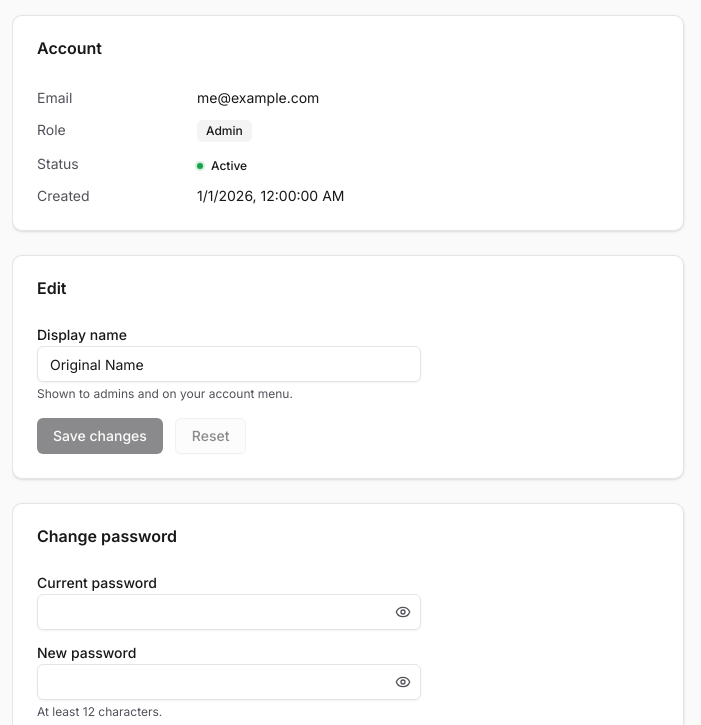
Test: ProfileEditor › keeps the change-password button disabled until all rules are met
Type "old-password" into the password field labelled "Current password" at (229,612), box top-left (37, 594), bottom-right (421, 630)
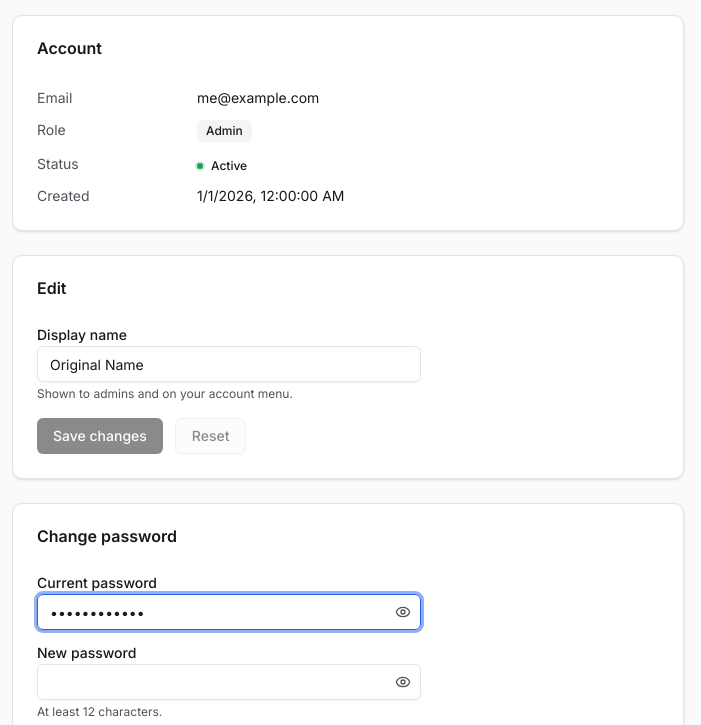
Type "short" into the password field labelled "New password" at (229,682), box top-left (37, 664), bottom-right (421, 700)
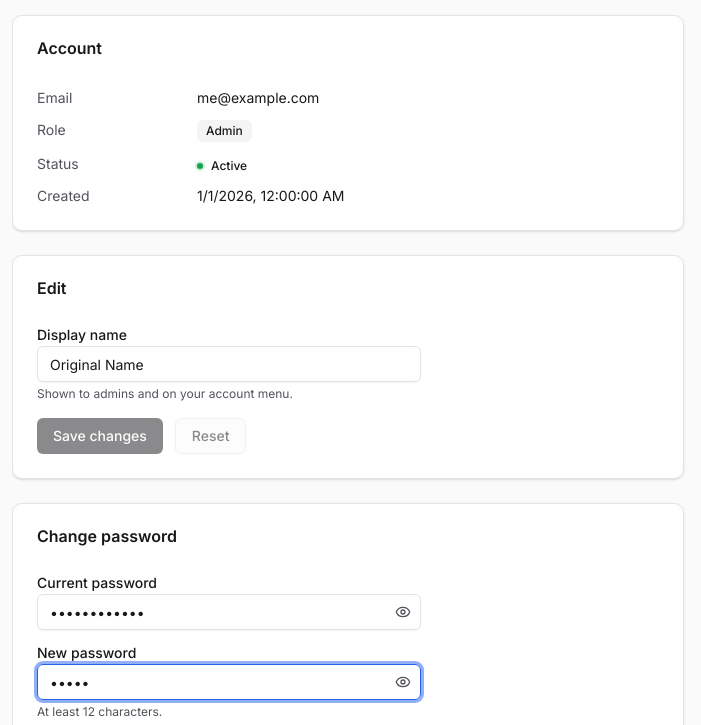
Type "a-good-password" into the password field labelled "New password" at (229,682), box top-left (37, 664), bottom-right (421, 700)
(page scrolled)
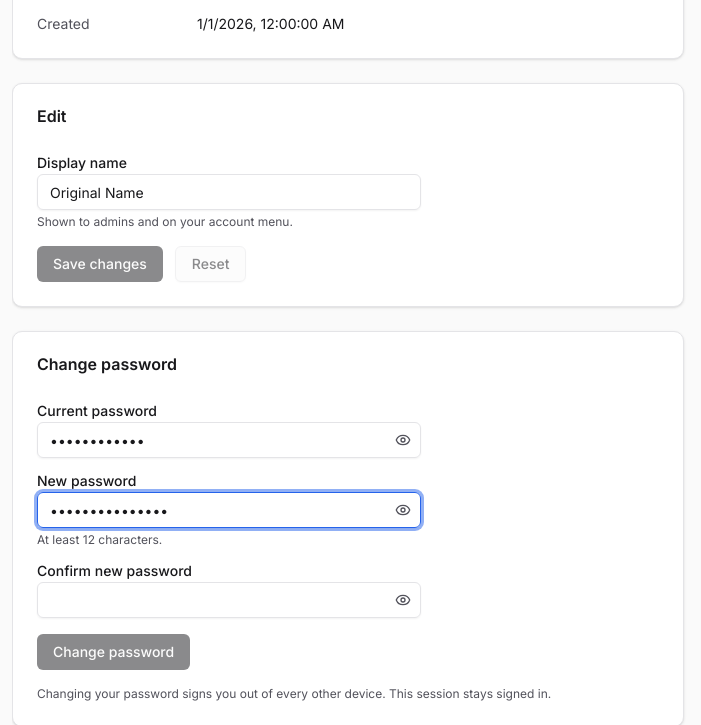
Type "different-password" into the password field labelled "Confirm new password" at (229,600), box top-left (37, 582), bottom-right (421, 618)
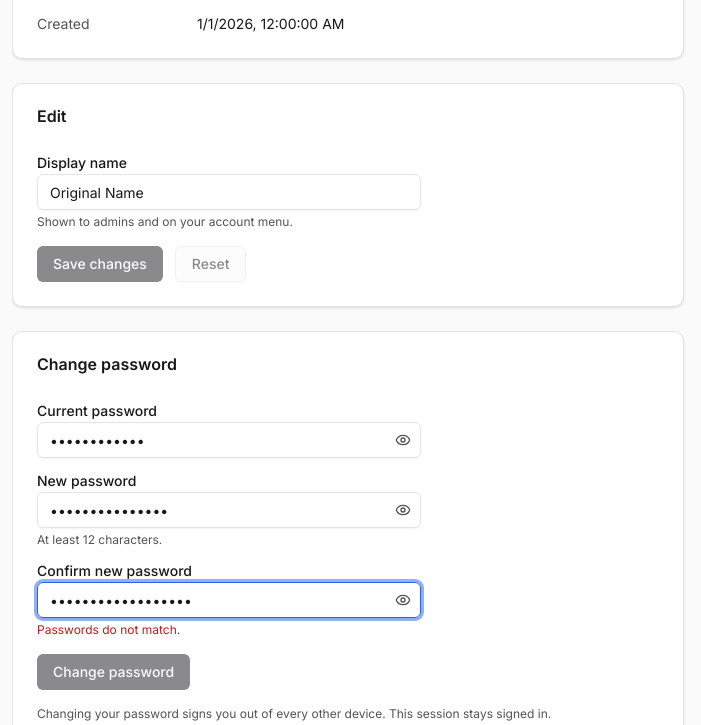
Expected: the button "Change password" is disabled, top-left (37, 654), bottom-right (190, 690)
Expected: the text "Passwords do not match." is shown, top-left (37, 622), bottom-right (180, 637)
